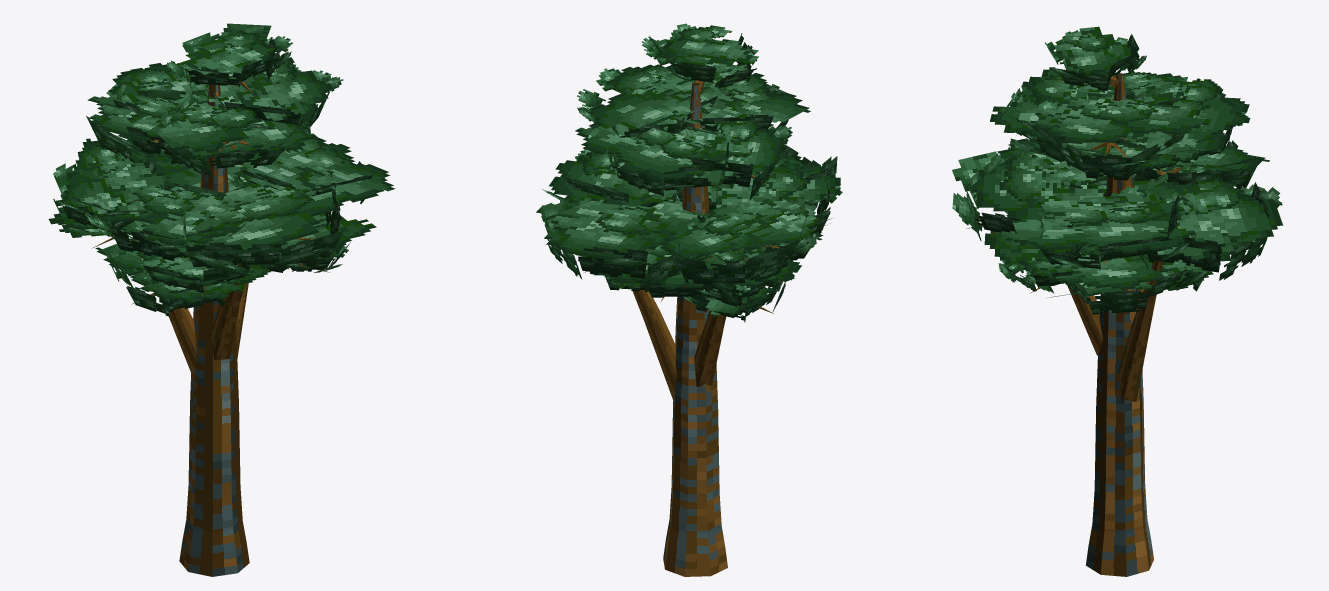
Rendered from rct2.scenery_small.tap.glb.
The picture shows the model from 3 angles, left to right: view 1: azimuth 30°, elevation 25°; view 2: azimuth 150°, elevation 25°; view 3: azimuth 270°, elevation 25°; orthographic projection. The views are drawn at different scales.
Visible parts, largest first — view 1: rct2.scenery_small.tap; view 2: rct2.scenery_small.tap; view 3: rct2.scenery_small.tap.
Part boxes in pixels (left/top/right/bottom): rct2.scenery_small.tap: left=48, top=23, right=395, bottom=576; rct2.scenery_small.tap: left=536, top=23, right=842, bottom=576; rct2.scenery_small.tap: left=952, top=26, right=1282, bottom=576.
Size of the model in its own units: 1.59 by 2.4 by 1.56.
1 material, 1 textured.
